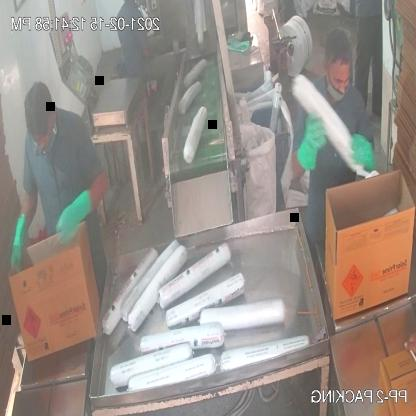glove: (51, 180, 98, 252), (292, 110, 326, 187), (348, 121, 390, 180), (10, 213, 28, 274)
